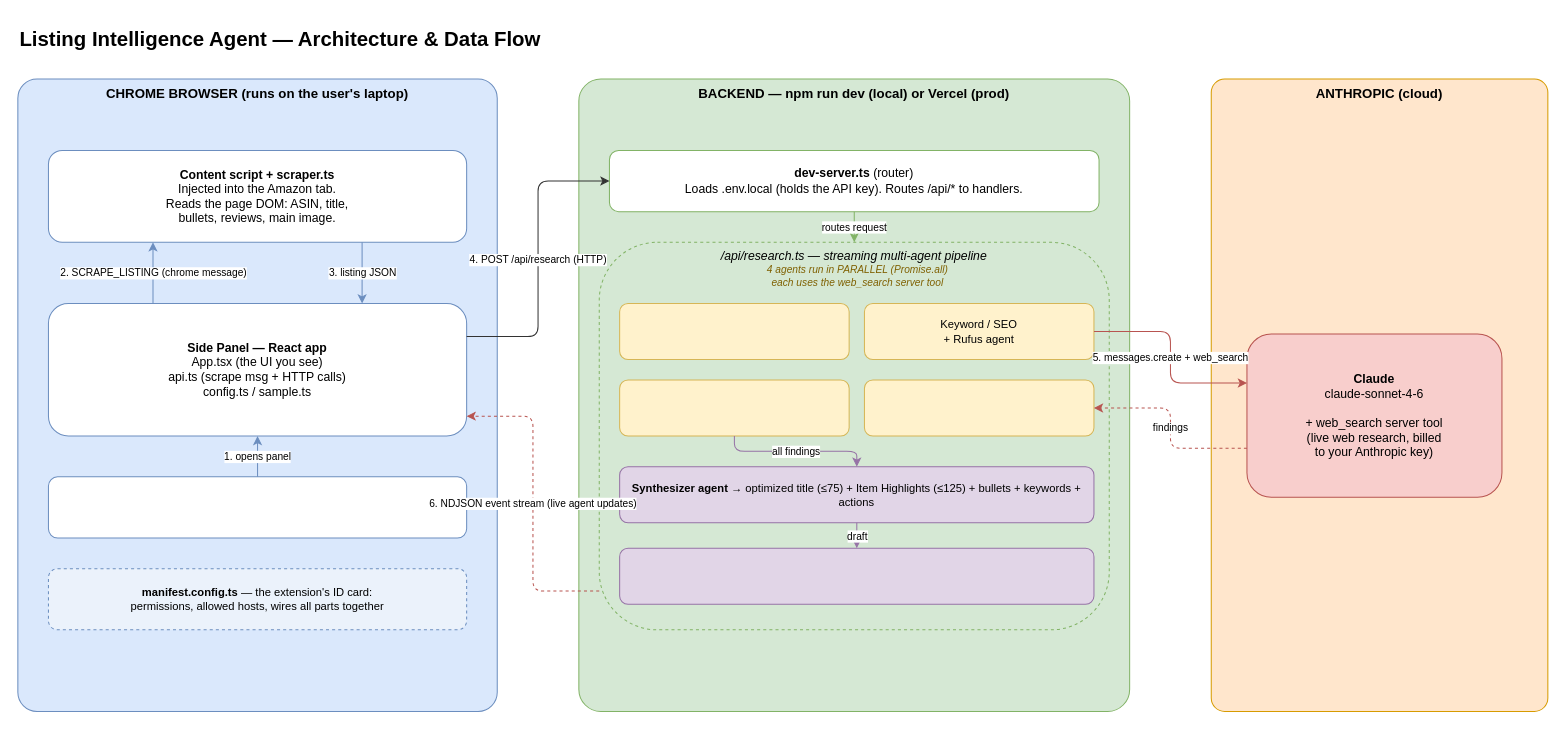
The diagram is 1566 pixels wide and 729 high, and some of its shapes have lost their labels. The shapes that lost their labels are listed below. From the top down, each one's centre as x and y in pixels, then its label:
At pixel 734 331: "Market / Competitor agent".
At pixel 734 407: "Voice-of-customer agent".
At pixel 978 407: "Compliance / July-27 agent".
At pixel 257 507: "Background service worker (index.ts) Opens the side panel on icon click.".
At pixel 856 575: "Verifier (red-team) agent → risks, compliance notes, confidence".
